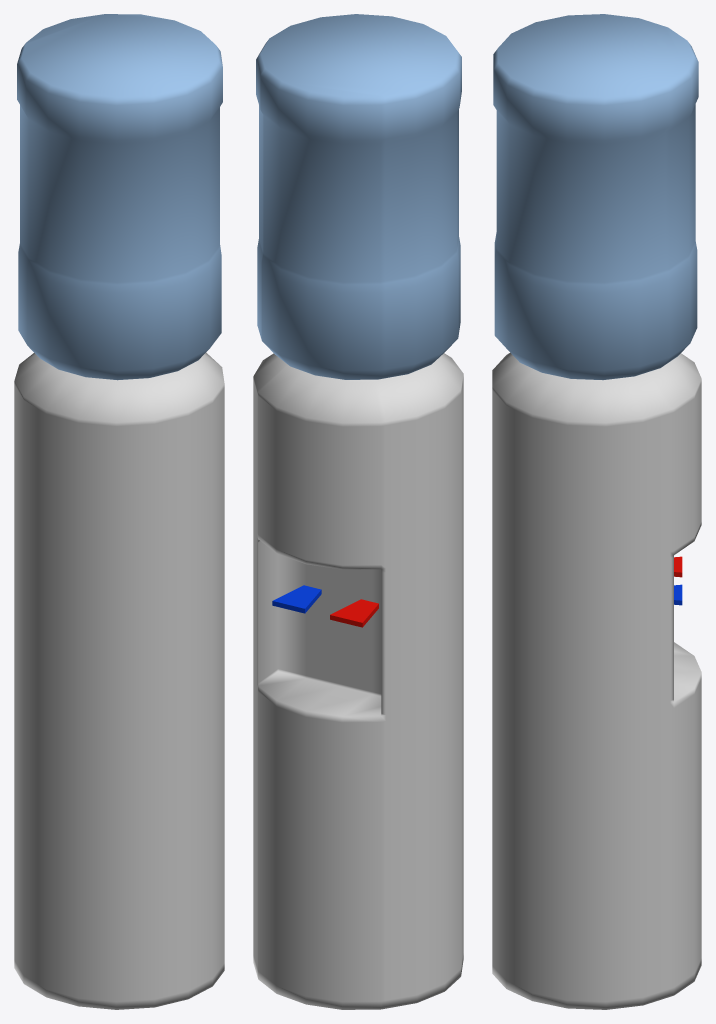
File: WaterDispenser.fbx
3 renders of one model, left to right at view 1: azimuth 30°, elevation 25°; view 2: azimuth 150°, elevation 25°; view 3: azimuth 270°, elevation 25°, orthographic.
Visible parts, largest first — view 1: WaterDispenser; view 2: WaterDispenser; view 3: WaterDispenser.
Boxes of the visible parts, x1=… form: WaterDispenser: x1=14, y1=14, x2=224, y2=1009; WaterDispenser: x1=253, y1=14, x2=463, y2=1009; WaterDispenser: x1=492, y1=14, x2=701, y2=1009.
Size of the model in its own units: 44.14 by 211 by 43.95.
